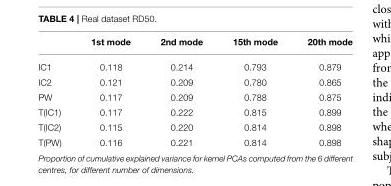table: (37, 37, 351, 146)
table column: (217, 37, 291, 146), (144, 37, 217, 146), (75, 37, 144, 146), (291, 37, 351, 146), (37, 37, 75, 146)
table column header: (37, 37, 351, 54)
table row: (37, 54, 351, 74), (37, 37, 351, 54), (37, 74, 351, 89), (37, 89, 351, 104), (37, 104, 351, 119), (37, 119, 351, 134), (37, 134, 351, 146)
